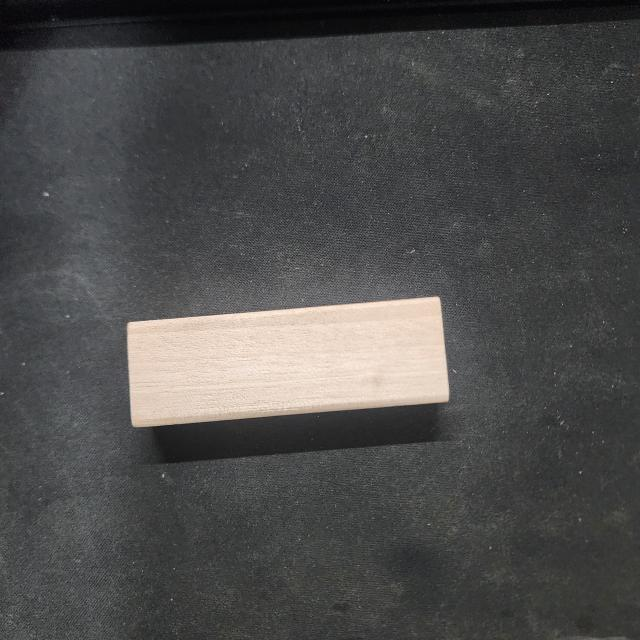wood: (126, 295, 449, 427)
